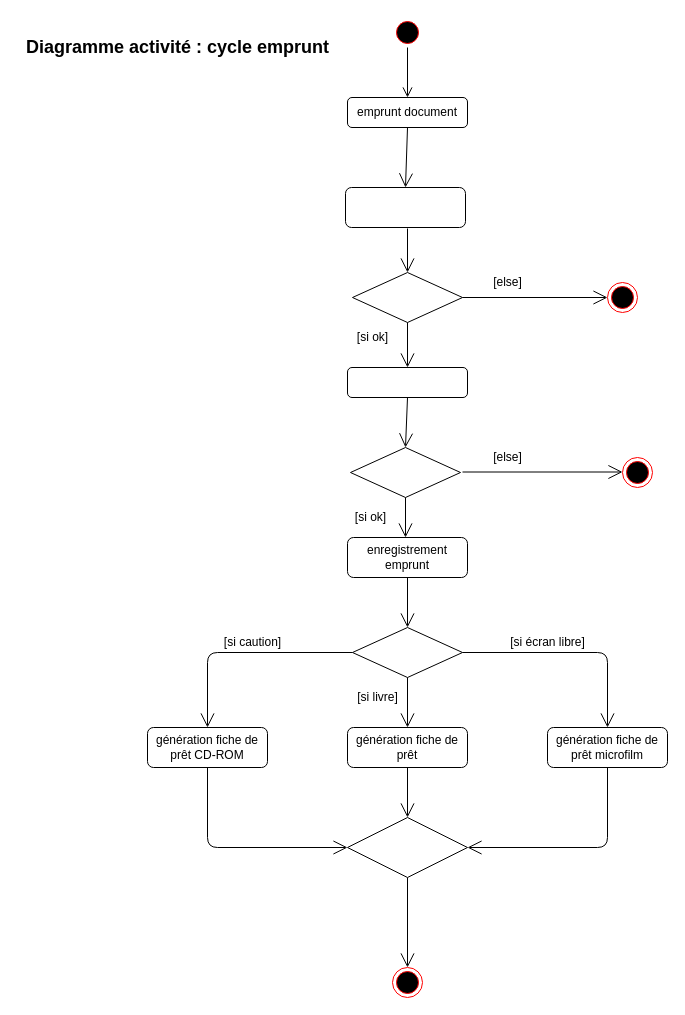
Some shapes in this 685 by 1015 pixel diagram are drawn without their labels. Each missing label, with the box of its shape:
disponibilité document: (344, 186, 466, 228)
verif situation usager: (346, 366, 468, 398)
